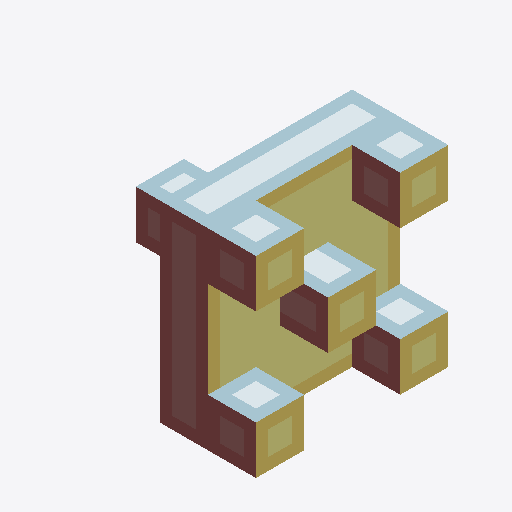
A Minecraft block model of 8 cuboids, rendered isometrically (azimuth 45°, elevation 35.3°) with the resource pack's own textures.
Parts seen in each view (by area): element 5, element 7, element 1, element 3, element 2, element 4.
Boxes of the visible parts, <box> form: element 5: <box>160,90,399,449</box>; element 7: <box>136,159,375,352</box>; element 1: <box>208,367,303,477</box>; element 3: <box>352,117,447,227</box>; element 2: <box>208,201,303,310</box>; element 4: <box>352,284,447,394</box>.
Bounding box in the file's own units: 16 × 16 × 16.